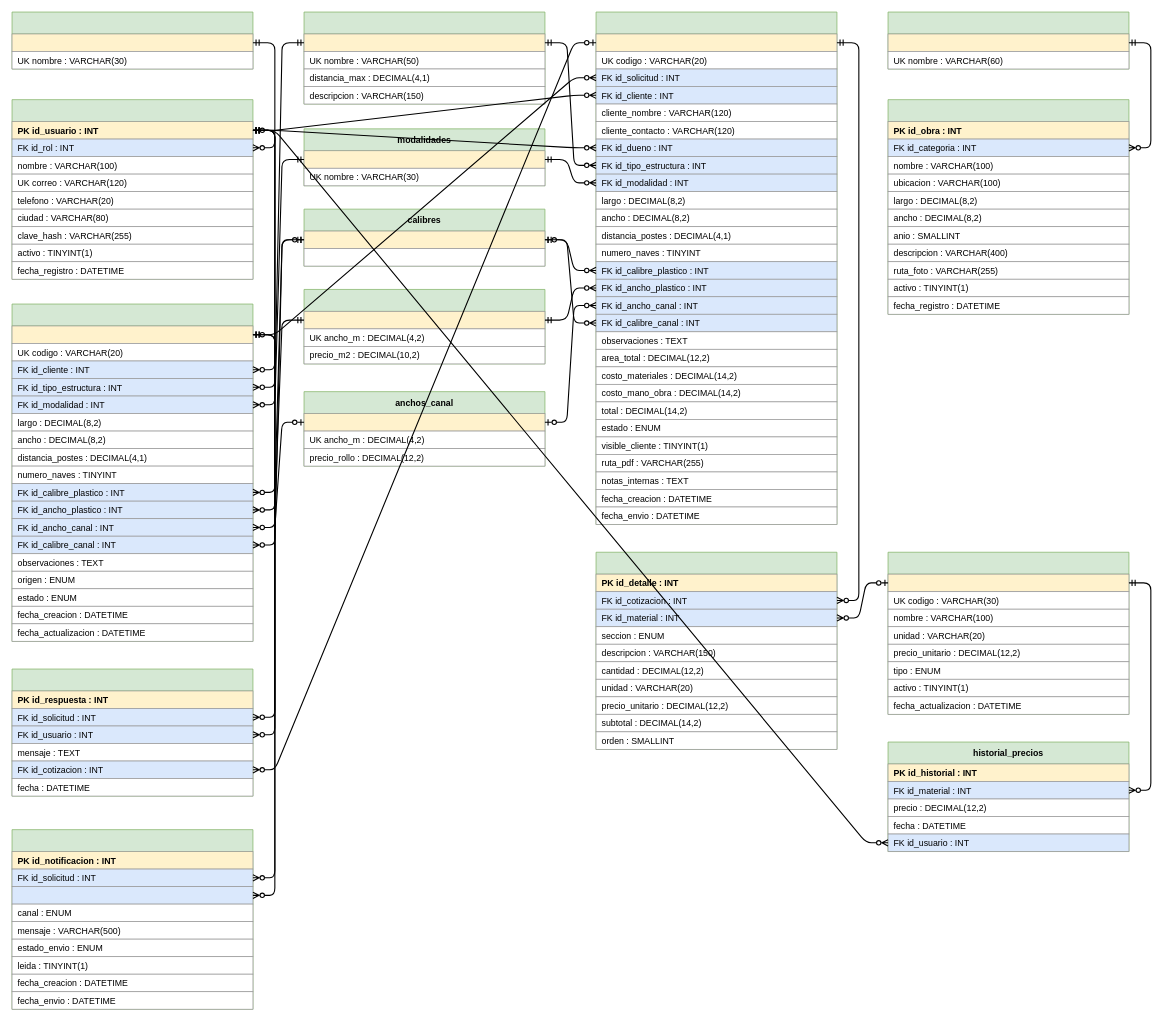
This 1163x1021 diagram has some shape labels left out. The shapes that lost their labels are listed below. From the top down, each one's box as (x1, y1, x2, y2) in pixels, then its label:
(11, 11, 253, 69): roles
(11, 33, 253, 51): PK id_rol : INT
(303, 33, 545, 51): PK id_tipo_estructura : INT
(303, 11, 545, 104): tipos_estructura
(595, 33, 837, 51): PK id_cotizacion : INT
(887, 11, 1129, 69): categorias_obra
(887, 33, 1129, 51): PK id_categoria : INT
(303, 150, 545, 168): PK id_modalidad : INT
(11, 99, 253, 279): usuarios
(887, 99, 1129, 314): obras
(303, 230, 545, 249): PK id_calibre : INT
(303, 248, 545, 266): UK valor : TINYINT
(595, 11, 837, 525): cotizaciones
(11, 325, 253, 343): PK id_solicitud : INT
(303, 311, 545, 329): PK id_ancho_plastico : INT
(303, 289, 545, 364): anchos_plastico
(303, 413, 545, 431): PK id_ancho_canal : INT
(11, 303, 253, 641): solicitudes
(887, 573, 1129, 592): PK id_material : INT
(595, 552, 837, 749): detalle_cotizacion
(887, 552, 1129, 714): materiales
(11, 668, 253, 796): respuestas_solicitud
(11, 886, 253, 904): FK id_destinatario : INT
(11, 829, 253, 1009): notificaciones
